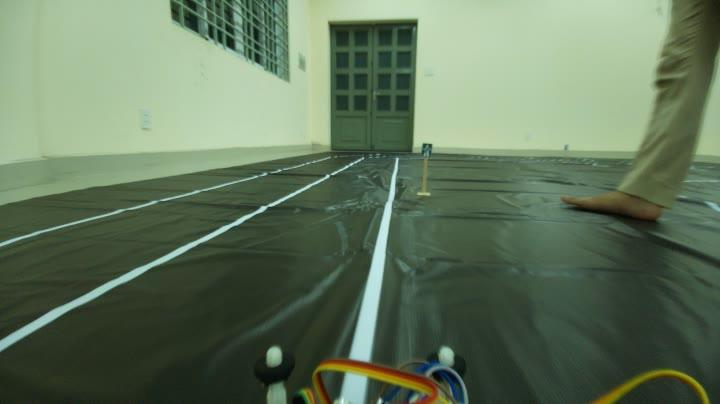highway_exit: (415, 140, 436, 166)
